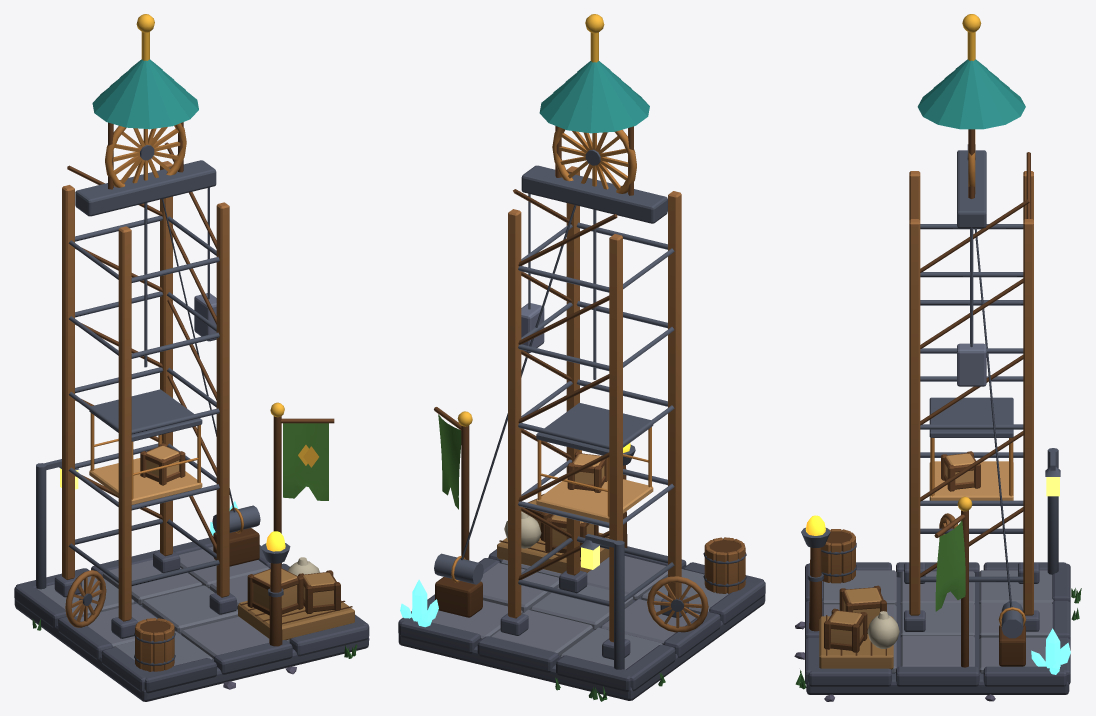
Rendered from surface_lift.glb.
3 renders of one model, left to right at view 1: azimuth 30°, elevation 25°; view 2: azimuth 150°, elevation 25°; view 3: azimuth 270°, elevation 25°, orthographic. The views are drawn at different scales.
Parts seen in each view (by area): view 1: t0_wood, t0_stone_dark, t0_iron, t0_stone, t0_wood_dark, t0_roof_teal, t0_wood_light, cabin_t0_bob90_iron, t0_cloth_green, wheel_t0_spinZ70_bronze, cabin_t0_bob90_wood_light, t1_iron (+8 smaller); view 2: t0_wood, t0_stone_dark, t0_stone, t0_iron, t0_wood_dark, t0_roof_teal, cabin_t0_bob90_iron, cabin_t0_bob90_wood_light, wheel_t0_spinZ70_bronze, t2_wood, t1_iron, t0_wood_light (+8 smaller); view 3: t0_stone_dark, t0_wood, t0_stone, t0_iron, t0_wood_dark, t0_roof_teal, t0_wood_light, cabin_t0_bob90_iron, cabin_t0_bob90_wood_light, t0_cloth_green, t1_iron, counterweight_t0_bob60_stone_dark (+7 smaller).
Boxes of the visible parts, x1=… form: t0_wood: x1=62, y1=161, x2=229, y2=671; t0_stone_dark: x1=14, y1=537, x2=369, y2=701; t0_iron: x1=68, y1=160, x2=235, y2=666; t0_stone: x1=37, y1=546, x2=289, y2=665; t0_wood_dark: x1=67, y1=122, x2=352, y2=633; t0_roof_teal: x1=92, y1=59, x2=198, y2=129; t0_wood_light: x1=238, y1=569, x2=354, y2=640; cabin_t0_bob90_iron: x1=89, y1=203, x2=202, y2=441; t0_cloth_green: x1=283, y1=423, x2=328, y2=500; wheel_t0_spinZ70_bronze: x1=105, y1=123, x2=186, y2=187; cabin_t0_bob90_wood_light: x1=89, y1=446, x2=202, y2=504; t1_iron: x1=36, y1=459, x2=79, y2=589; t0_wood: x1=508, y1=166, x2=745, y2=642; t0_stone_dark: x1=398, y1=546, x2=765, y2=700; t0_stone: x1=431, y1=556, x2=728, y2=669; t0_iron: x1=461, y1=165, x2=746, y2=606; t0_wood_dark: x1=434, y1=126, x2=740, y2=617; t0_roof_teal: x1=539, y1=61, x2=649, y2=133; cabin_t0_bob90_iron: x1=536, y1=209, x2=653, y2=455; cabin_t0_bob90_wood_light: x1=536, y1=454, x2=653, y2=522; wheel_t0_spinZ70_bronze: x1=552, y1=127, x2=636, y2=193; t2_wood: x1=647, y1=576, x2=708, y2=632; t1_iron: x1=580, y1=534, x2=624, y2=669; t0_wood_light: x1=497, y1=499, x2=609, y2=573; t0_stone_dark: x1=805, y1=562, x2=1070, y2=694; t0_wood: x1=821, y1=171, x2=1033, y2=615; t0_stone: x1=822, y1=570, x2=1053, y2=673; t0_iron: x1=821, y1=150, x2=1023, y2=607; t0_wood_dark: x1=824, y1=129, x2=1030, y2=667; t0_roof_teal: x1=917, y1=59, x2=1025, y2=129; t0_wood_light: x1=819, y1=587, x2=893, y2=669; cabin_t0_bob90_iron: x1=929, y1=228, x2=1013, y2=437; cabin_t0_bob90_wood_light: x1=929, y1=453, x2=1013, y2=500; t0_cloth_green: x1=935, y1=520, x2=965, y2=611; t1_iron: x1=1045, y1=448, x2=1060, y2=574; counterweight_t0_bob60_stone_dark: x1=957, y1=343, x2=986, y2=386.
Size of the model in its own units: 2.28 by 5 by 2.12.
